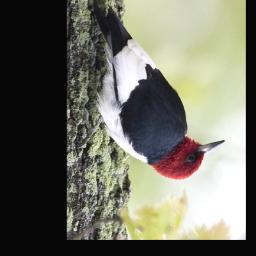Woodpecker: (81, 0, 232, 183)
